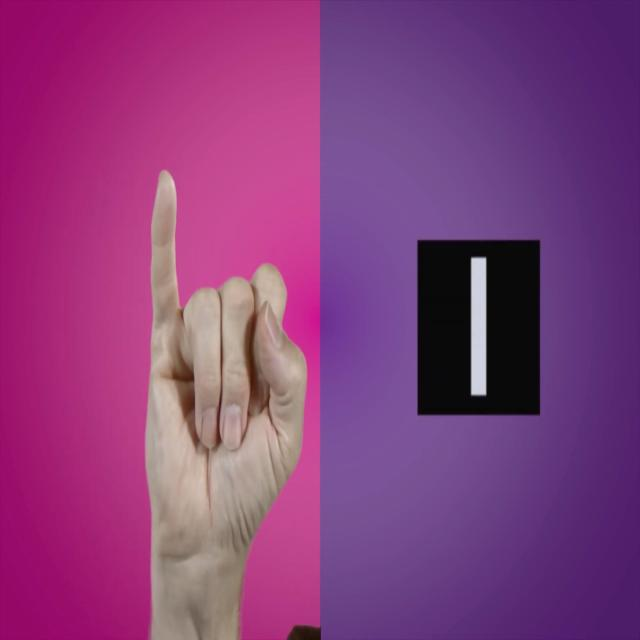I: (113, 119, 311, 640)
